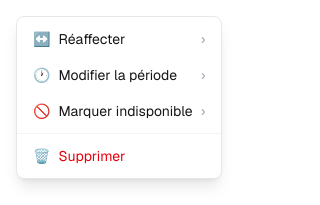
Test: MenuContextuelAffectation › Reassign submenu (AC3, AC4) › should show chantier list when clicking Réaffecter
The image size is (320, 205).
What coordinates should you click on to do the following:
click the text "Réaffecter"
I would click on:
 (92, 39)
Its box is x1=58 y1=29 x2=125 y2=49.
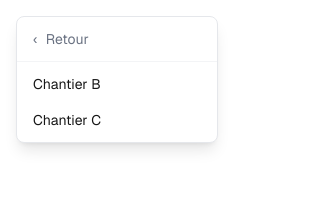
Check: the menu item "Chantier B" is shown, box x1=17 y1=66 x2=217 y2=102
Check: the menu item "Chantier C" is shown, box x1=17 y1=102 x2=217 y2=138
